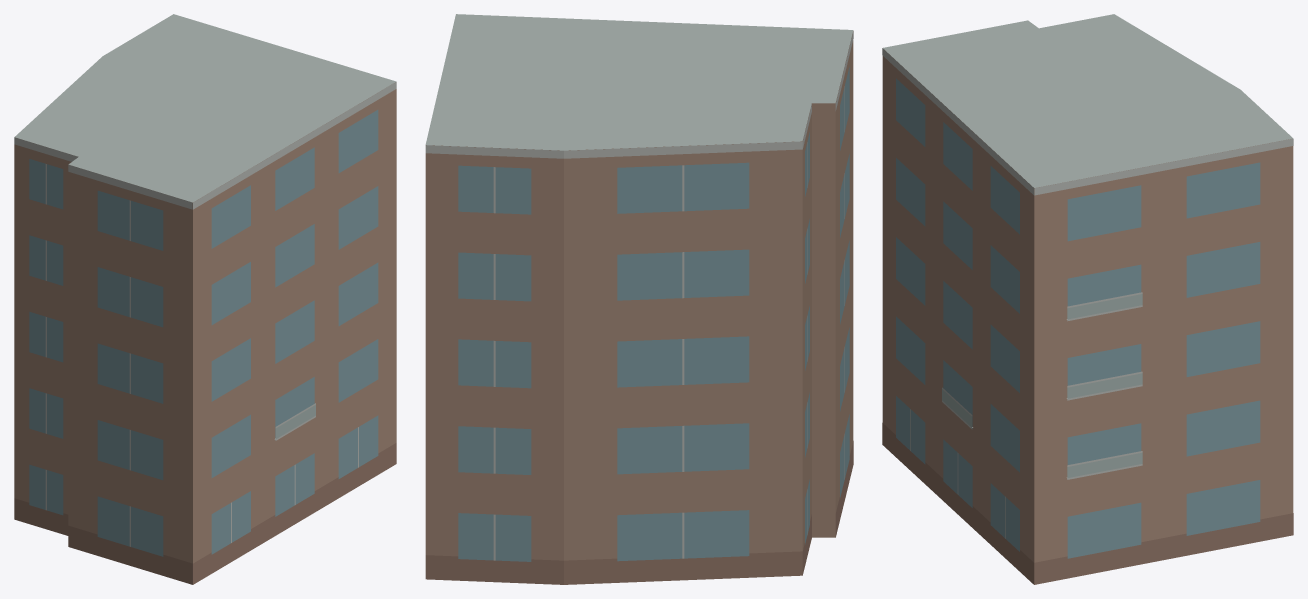
File: survey-upis-32689511.glb
3 renders of one model, left to right at view 1: azimuth 30°, elevation 25°; view 2: azimuth 150°, elevation 25°; view 3: azimuth 270°, elevation 25°, orthographic. The views are drawn at different scales.
Visible parts, largest first — view 1: survey-upis-32689511.tmp; view 2: survey-upis-32689511.tmp; view 3: survey-upis-32689511.tmp.
Boxes of the visible parts, x1,y1,x2,y2 form: survey-upis-32689511.tmp: [14, 14, 396, 584]; survey-upis-32689511.tmp: [425, 14, 853, 584]; survey-upis-32689511.tmp: [882, 14, 1293, 584].
Bounding box in the file's own units: 12.24 × 13 × 12.22.
